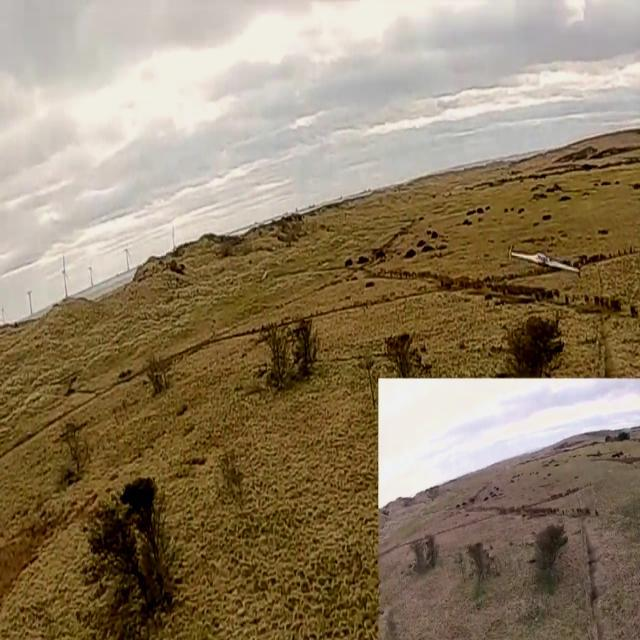iha: (543, 243, 548, 279)
